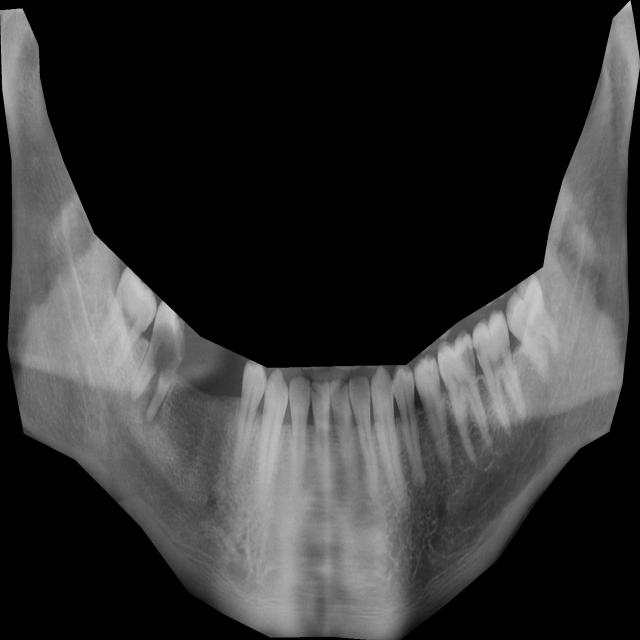mandibula: (0, 0, 640, 640)
